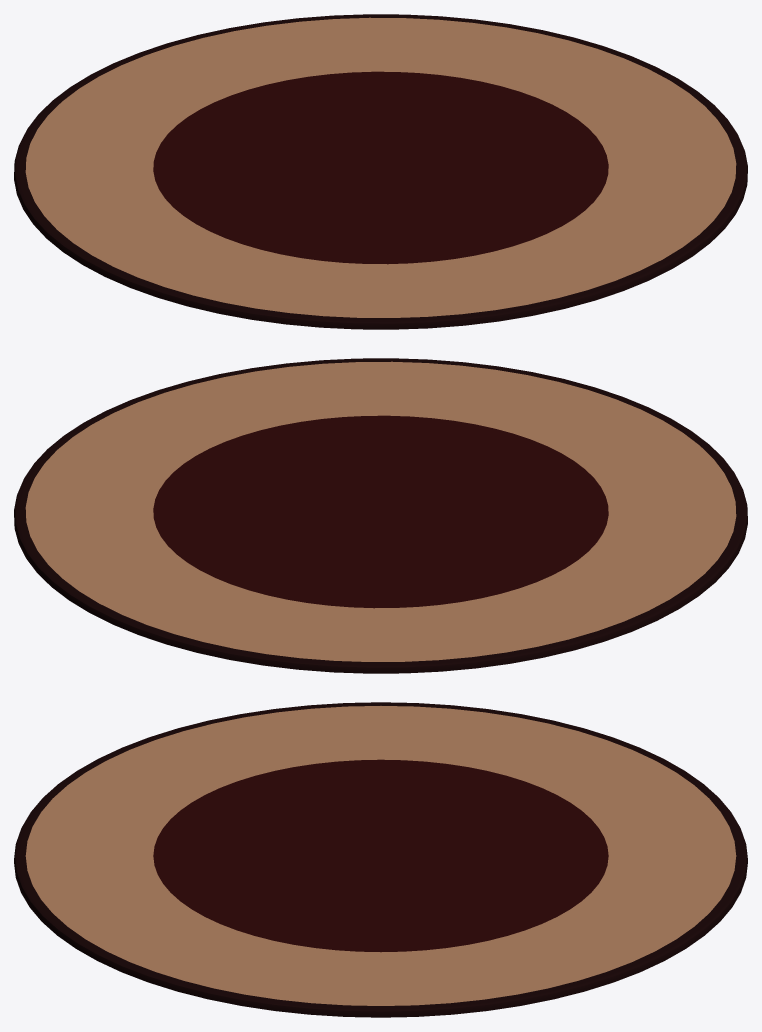
The model's file is area_rug02.fbx.
3 renders of one model, top to bottom at view 1: azimuth 30°, elevation 25°; view 2: azimuth 150°, elevation 25°; view 3: azimuth 270°, elevation 25°, orthographic.
Visible parts, largest first — view 1: area_rug02(Clone); view 2: area_rug02(Clone); view 3: area_rug02(Clone).
Boxes of the visible parts, bbox=[...] form: area_rug02(Clone): bbox=[14, 14, 747, 329]; area_rug02(Clone): bbox=[14, 358, 747, 673]; area_rug02(Clone): bbox=[14, 702, 747, 1017].
Size of the model in its own units: 3 by 0.0299 by 3.
